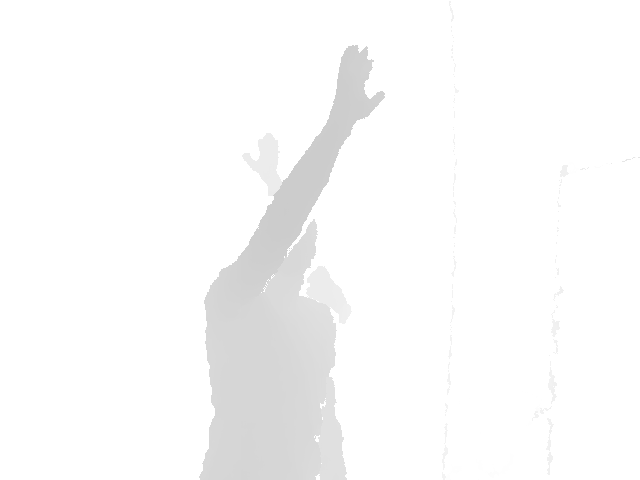hand: (333, 45, 385, 122), (242, 132, 279, 178)
head: (256, 205, 317, 302)
person: (198, 45, 384, 480), (241, 132, 350, 325)
